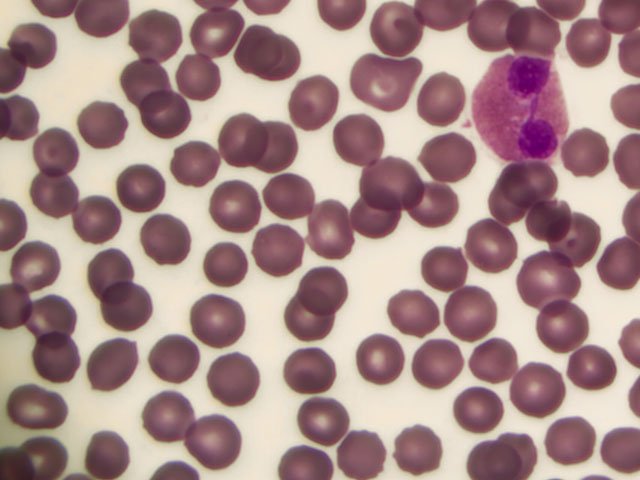RBC: (212, 109, 267, 167), (6, 20, 61, 78), (128, 5, 183, 63), (116, 46, 171, 104), (131, 87, 186, 145), (170, 52, 225, 110), (186, 6, 241, 64), (222, 20, 277, 78), (262, 34, 317, 92), (283, 72, 338, 130), (347, 57, 402, 115), (366, 1, 421, 59), (410, 68, 465, 126), (420, 122, 475, 180), (360, 153, 415, 211), (333, 113, 388, 171), (263, 122, 318, 180), (166, 135, 221, 193), (116, 156, 171, 214), (74, 100, 129, 158), (32, 117, 87, 175), (22, 169, 77, 227), (66, 186, 121, 244), (142, 212, 197, 270), (78, 237, 133, 295), (100, 280, 155, 338), (26, 284, 81, 342), (20, 236, 75, 294), (32, 325, 87, 383), (8, 381, 63, 439), (86, 337, 141, 395), (150, 331, 205, 389), (190, 294, 245, 352), (201, 240, 256, 298), (211, 182, 266, 240), (254, 169, 309, 227), (247, 218, 302, 276), (298, 199, 353, 257), (338, 193, 393, 251), (405, 183, 460, 241), (454, 218, 509, 276), (476, 175, 531, 233), (506, 155, 561, 213), (520, 185, 575, 243), (546, 208, 601, 266), (568, 133, 623, 191), (568, 11, 623, 69), (514, 9, 569, 67), (462, 1, 517, 59), (407, 236, 462, 294), (441, 286, 496, 344), (394, 282, 449, 340), (353, 333, 408, 391), (302, 258, 357, 316), (271, 295, 326, 353), (282, 346, 337, 404), (289, 391, 344, 449), (275, 422, 330, 480), (329, 422, 384, 480), (384, 422, 439, 480), (451, 377, 506, 435), (412, 334, 467, 392), (473, 334, 528, 392), (508, 361, 563, 419), (567, 342, 622, 400), (529, 292, 584, 350), (526, 259, 581, 317), (542, 411, 597, 469), (192, 414, 247, 472), (214, 353, 269, 411), (140, 387, 195, 445), (84, 422, 139, 480)
WBC: (479, 56, 569, 158)
